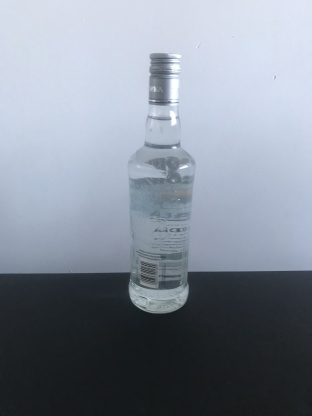nakretka: (147, 49, 182, 107)
